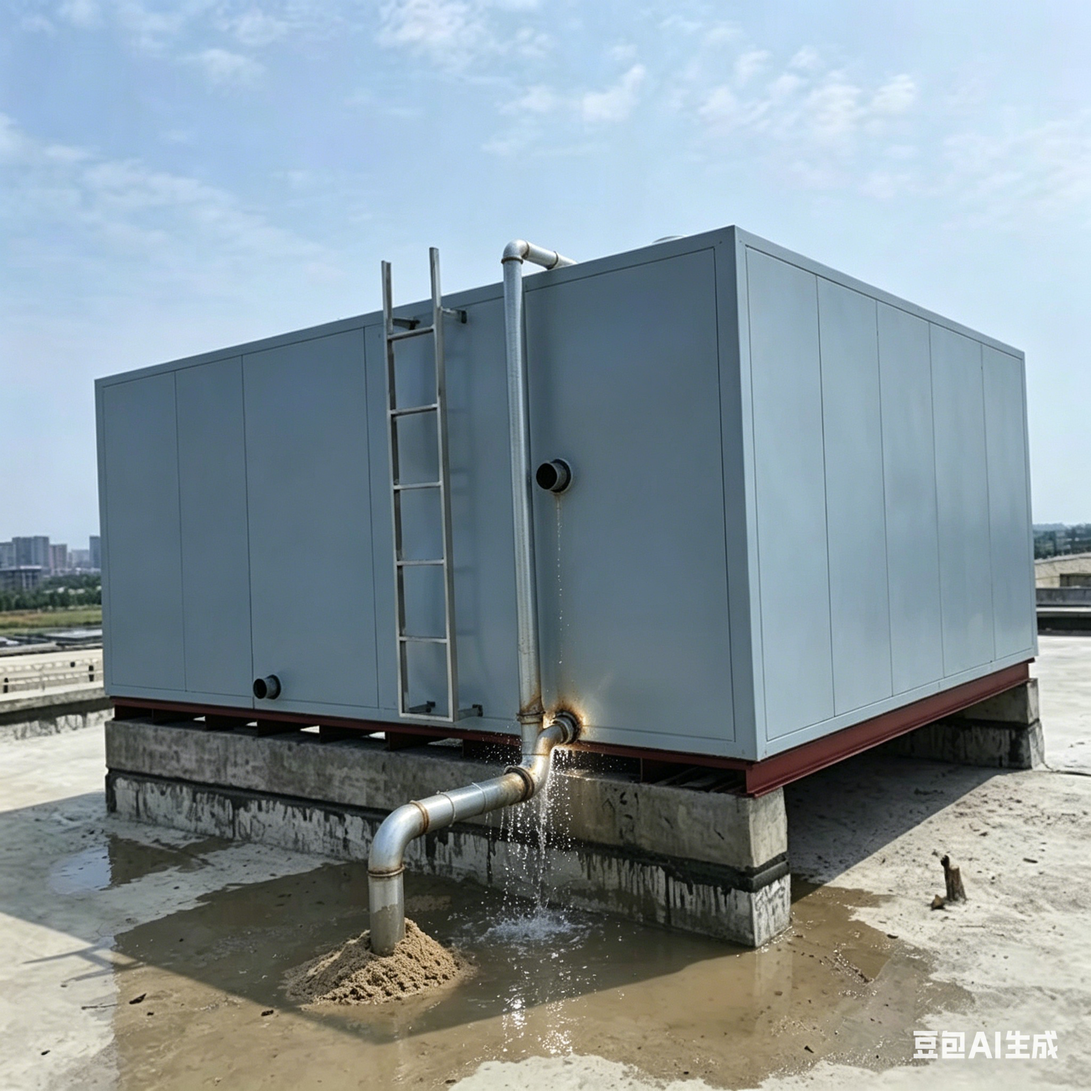Leakage: (106, 933, 503, 1087), (630, 900, 941, 1085), (515, 672, 606, 1057), (211, 858, 513, 925), (42, 818, 199, 882)
